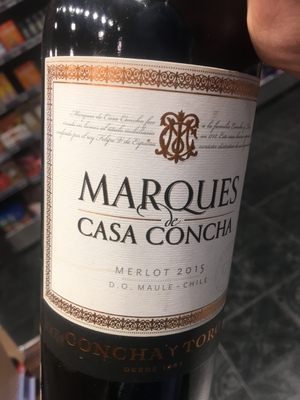marques de casa concha merlot: (40, 14, 279, 400)
